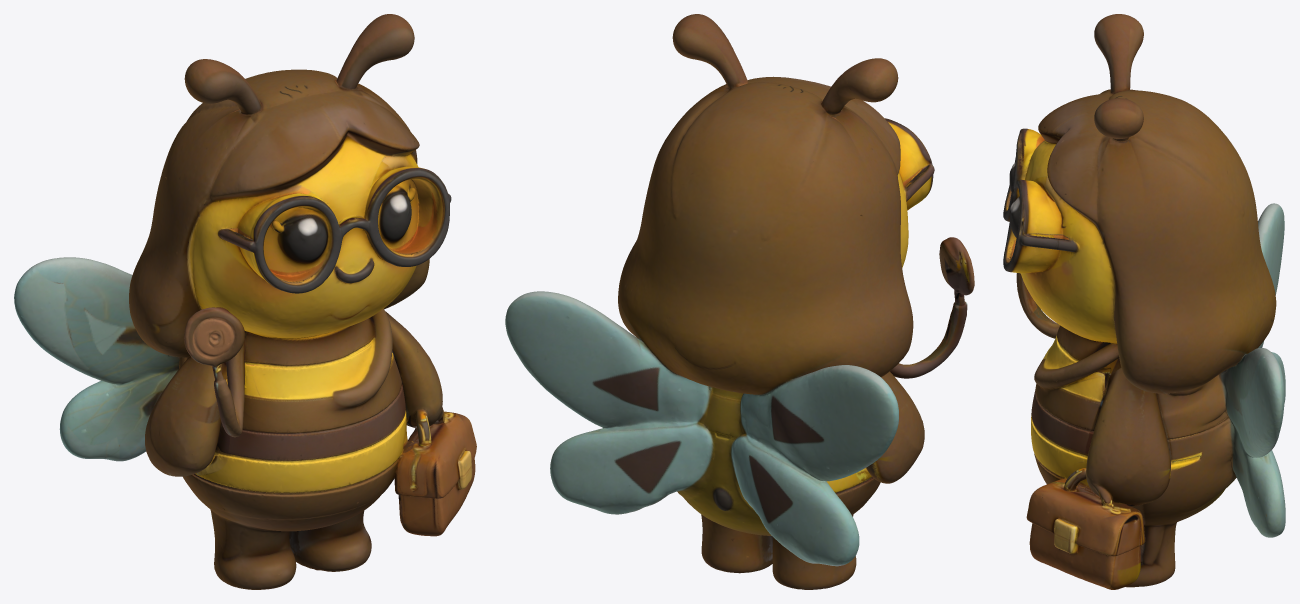
Rendered from DocBee.glb.
The picture shows the model from 3 angles, left to right: view 1: azimuth 30°, elevation 25°; view 2: azimuth 150°, elevation 25°; view 3: azimuth 270°, elevation 25°; orthographic projection. The views are drawn at different scales.
Size of the model in its own units: 1.5 by 1.9 by 0.98.
Materials: 1 (1 with a texture image).
